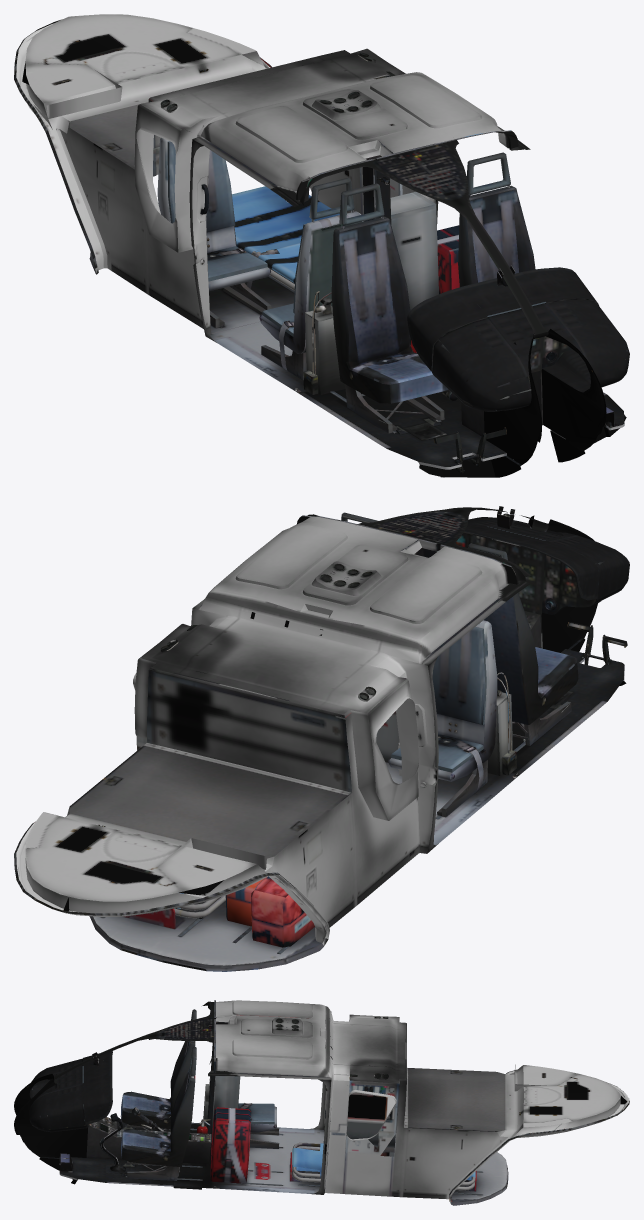
File: AirAmb_Int.glb
3 renders of one model, top to bottom at view 1: azimuth 30°, elevation 25°; view 2: azimuth 150°, elevation 25°; view 3: azimuth 270°, elevation 25°, orthographic. The views are drawn at different scales.
Visible parts, largest first — view 1: Body_Int_Combine; view 2: Body_Int_Combine; view 3: Body_Int_Combine.
Part boxes in pixels (x1=…): Body_Int_Combine: x1=14, y1=14, x2=629, y2=477; Body_Int_Combine: x1=14, y1=506, x2=629, y2=971; Body_Int_Combine: x1=14, y1=1000, x2=629, y2=1205.
Size of the model in its own units: 1.59 by 1.55 by 5.68.
Materials: 1 (1 with a texture image).
